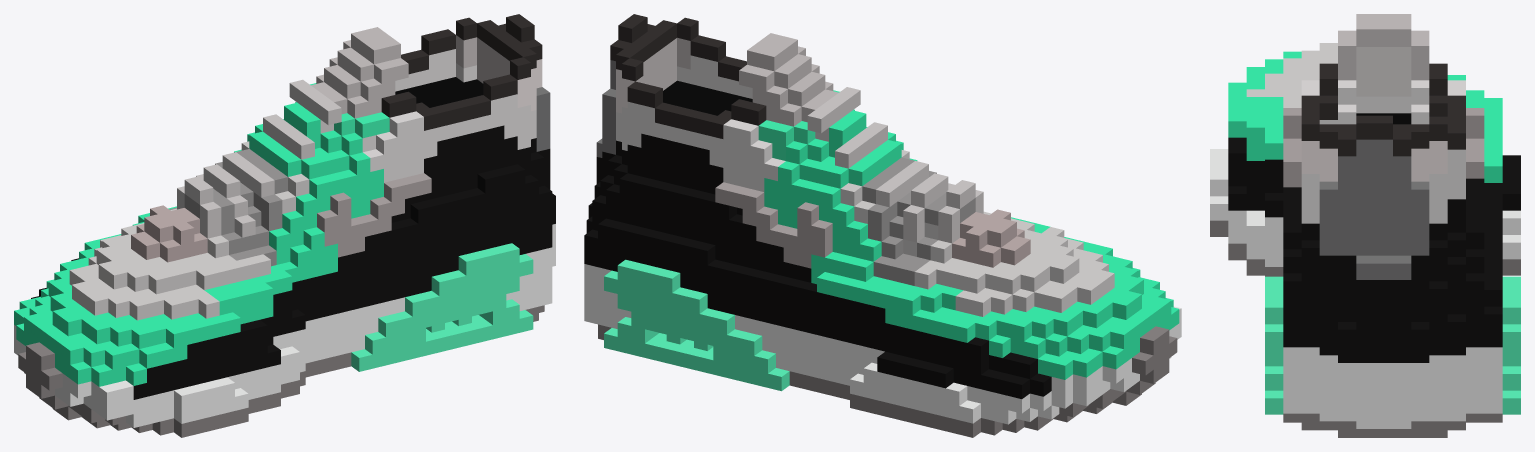
Rendered from Teally.fbx.
3 views of the same model, side by side, from view 1: azimuth 30°, elevation 25°; view 2: azimuth 150°, elevation 25°; view 3: azimuth 270°, elevation 25° (orthographic). The views are drawn at different scales.
Visible parts, largest first — view 1: Untitled; view 2: Untitled; view 3: Untitled.
Boxes of the visible parts, x1,y1,x2,y2 form: Untitled: (14,14,555,437); Untitled: (584,14,1181,437); Untitled: (1210,14,1520,437).
Bounding box in the file's own units: 390 × 200 × 170.
